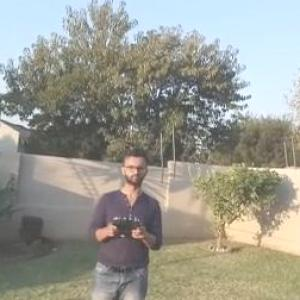follow: (76, 140, 168, 299)
